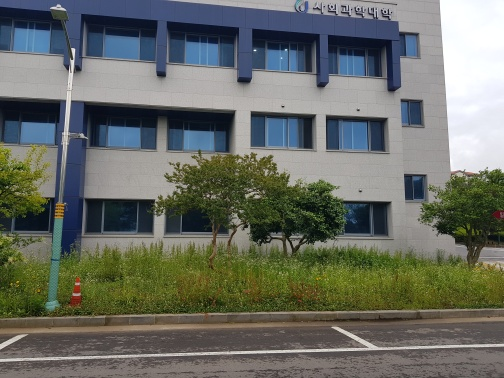College of Social Sciences: (14, 5, 464, 265), (144, 4, 411, 101), (294, 1, 395, 25)
